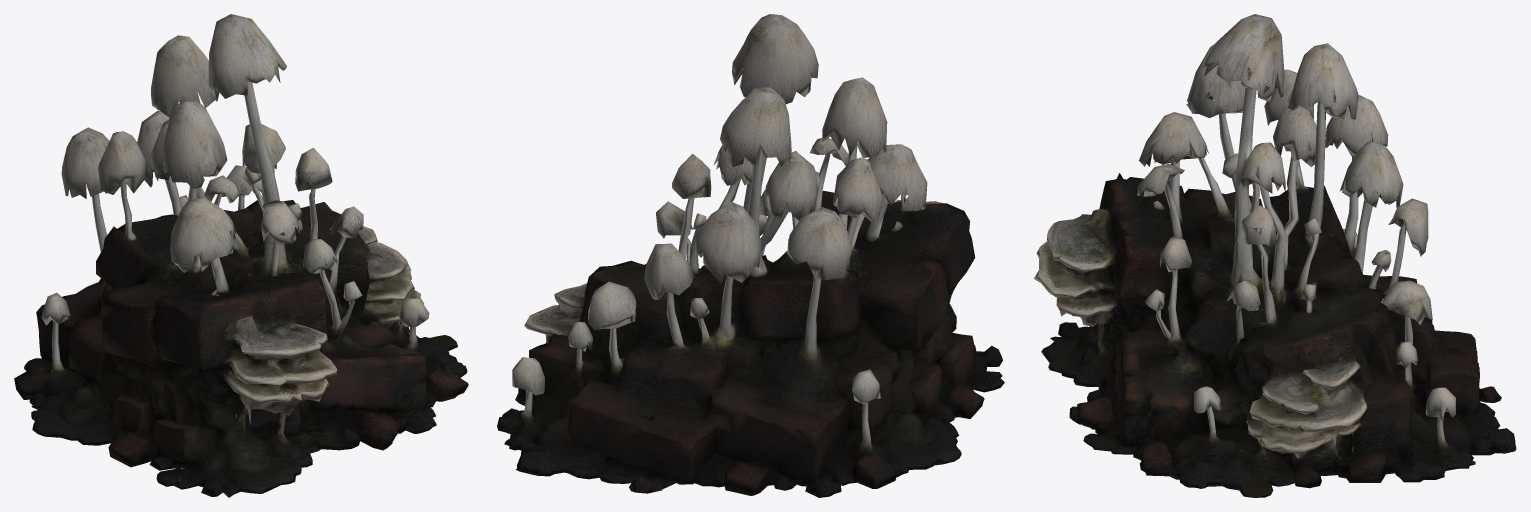
File: raw_fungus.glb
3 views of the same model, side by side, from view 1: azimuth 30°, elevation 25°; view 2: azimuth 150°, elevation 25°; view 3: azimuth 270°, elevation 25° (orthographic). The views are drawn at different scales.
Visible parts, largest first — view 1: tripo_node_460bdb4c-ddc6-4ba1-a440-5e661ec9128d; view 2: tripo_node_460bdb4c-ddc6-4ba1-a440-5e661ec9128d; view 3: tripo_node_460bdb4c-ddc6-4ba1-a440-5e661ec9128d.
Boxes of the visible parts, box(x1,y1,x2,y2) form: tripo_node_460bdb4c-ddc6-4ba1-a440-5e661ec9128d: box(14, 14, 468, 497); tripo_node_460bdb4c-ddc6-4ba1-a440-5e661ec9128d: box(497, 14, 1004, 497); tripo_node_460bdb4c-ddc6-4ba1-a440-5e661ec9128d: box(1033, 14, 1516, 497).
Bounding box in the file's own units: 0.9707 × 0.856 × 1.
Materials: 1 (1 with a texture image).
